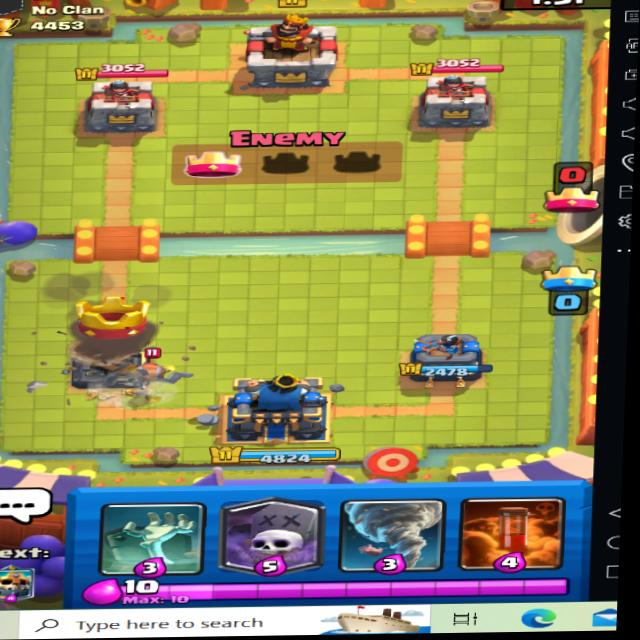wall-breaker: (129, 345, 175, 390)
